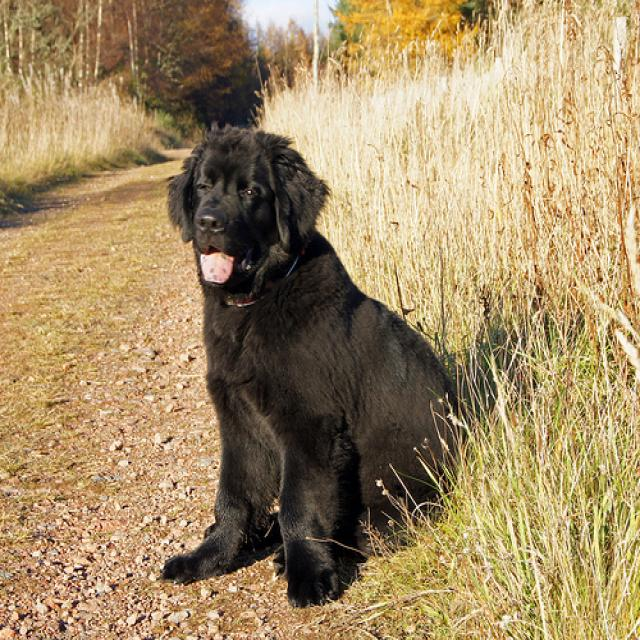dog-newfoundland: (148, 120, 475, 620)
